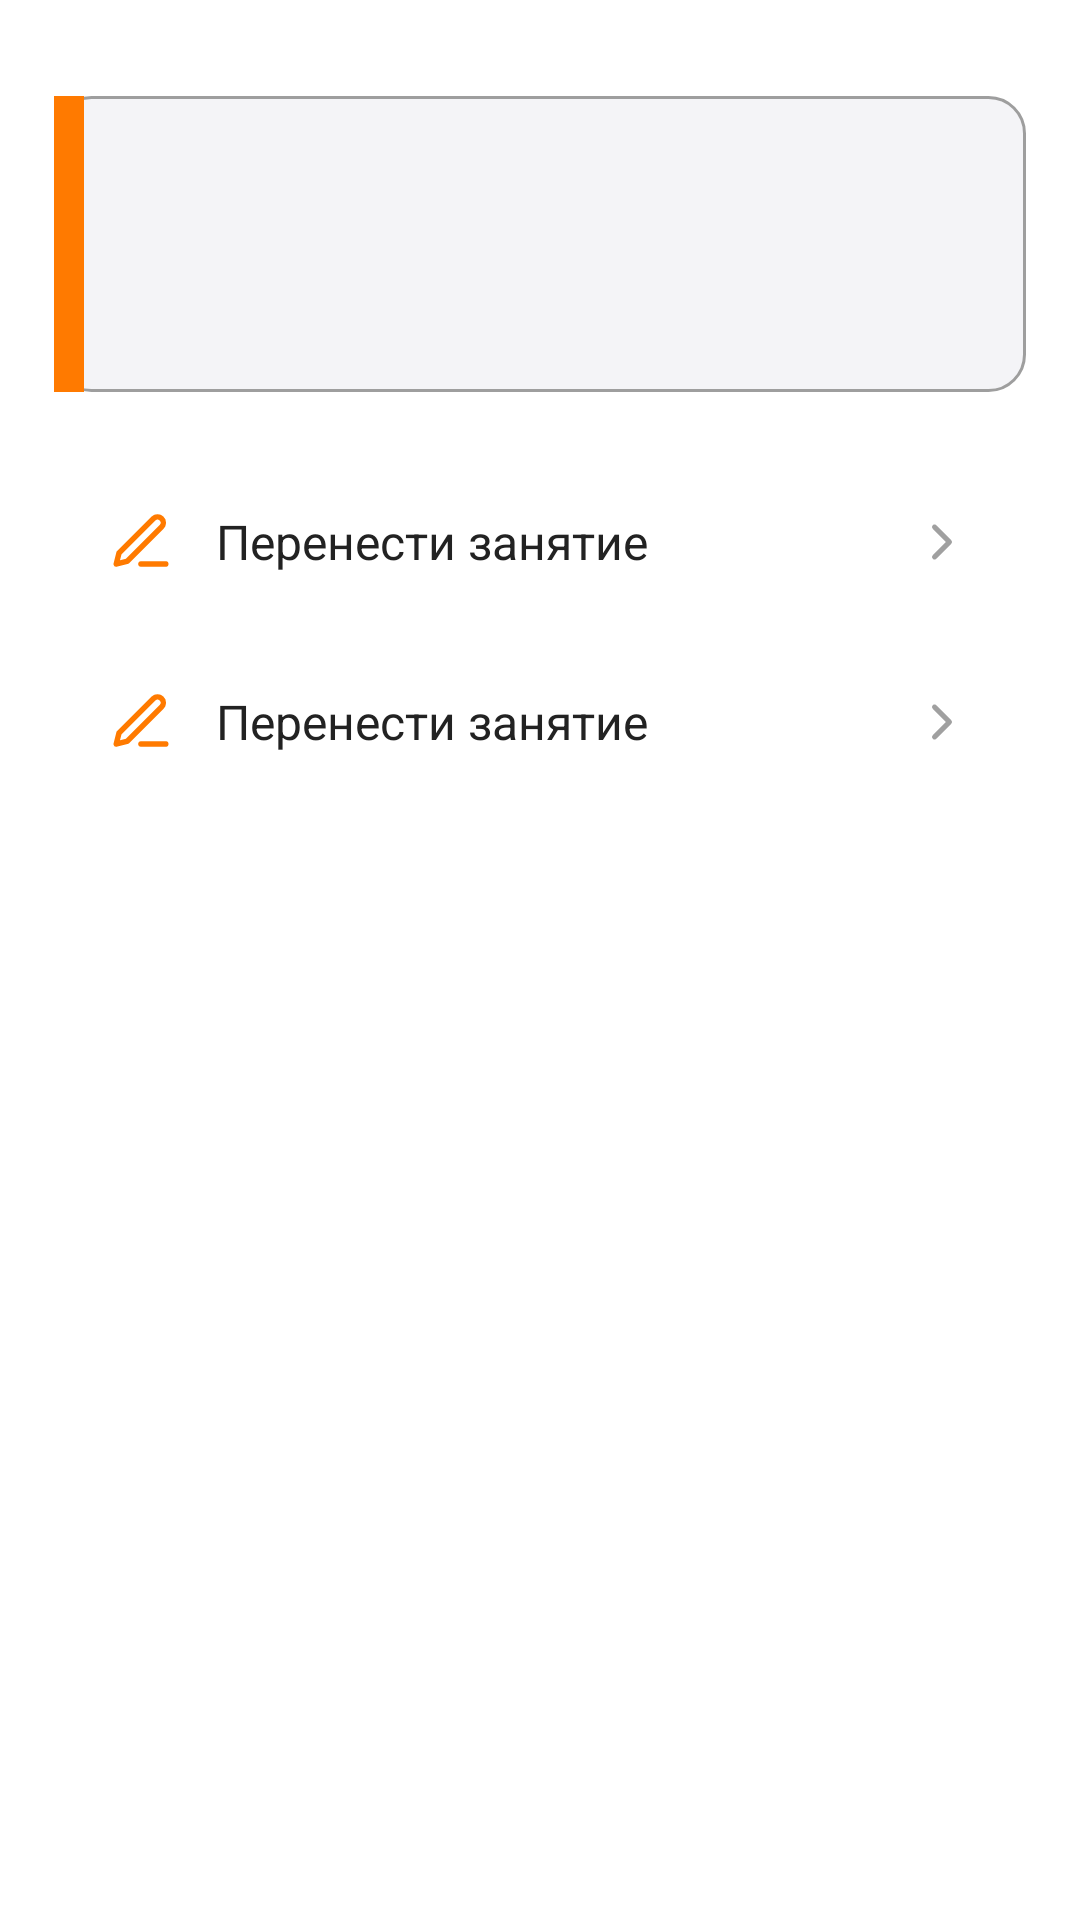

Icon bounding boxes for this 1080x1920 phone screenshot, format (x1, y1, x2, y2):
chevron right: (932, 524, 952, 560), (932, 704, 952, 740)
edit: (113, 514, 169, 567), (113, 694, 169, 747)
